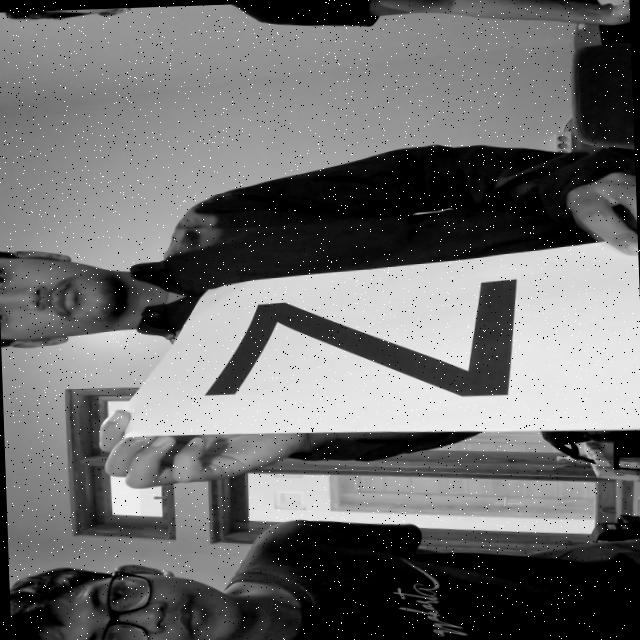z: (189, 270, 532, 414)
